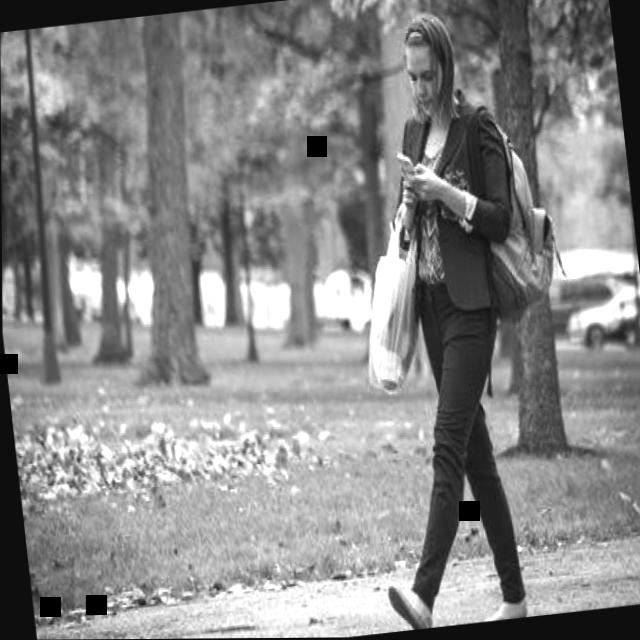NO-Mask: (399, 13, 458, 119)
